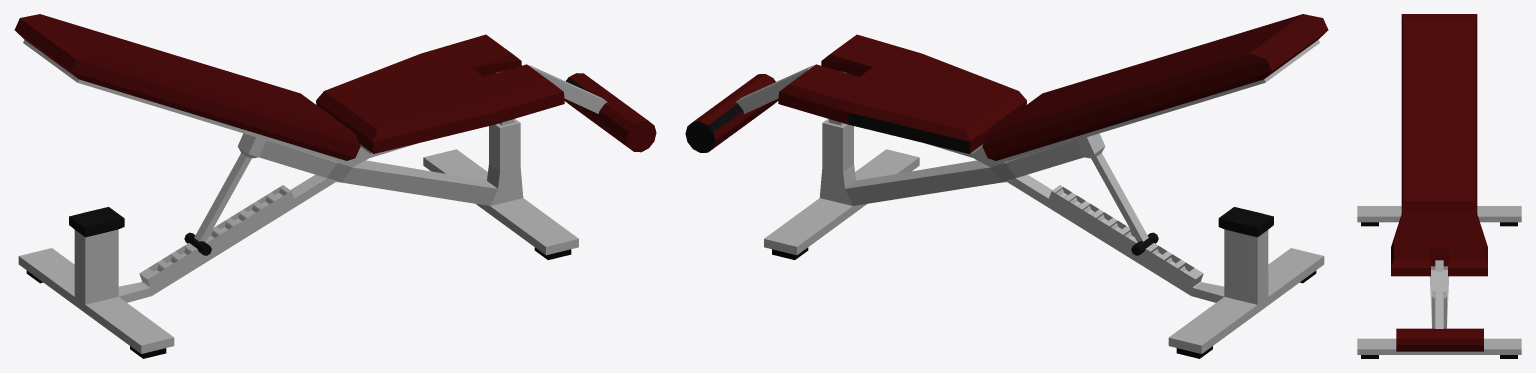
File: GymBench.009.fbx
3 views of the same model, side by side, from view 1: azimuth 30°, elevation 25°; view 2: azimuth 150°, elevation 25°; view 3: azimuth 270°, elevation 25° (orthographic). The views are drawn at different scales.
Visible parts, largest first — view 1: GymBench.009; view 2: GymBench.009; view 3: GymBench.009.
Boxes of the visible parts, box(x1,y1,x2,y2) form: GymBench.009: box(14, 14, 656, 358); GymBench.009: box(685, 14, 1328, 358); GymBench.009: box(1357, 14, 1521, 358).
Bounding box in the file's own units: 140 × 66.2 × 51.19.
